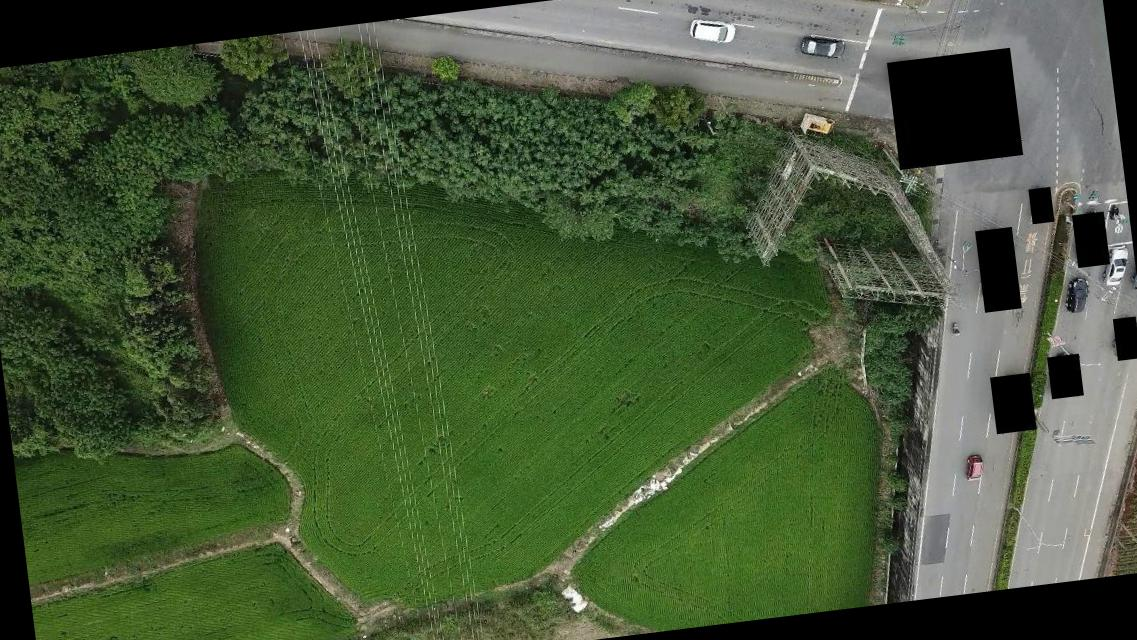vehicle: (688, 14, 738, 48), (798, 34, 846, 64), (1100, 244, 1132, 286), (1062, 276, 1092, 316), (804, 115, 834, 136), (964, 454, 985, 481)
